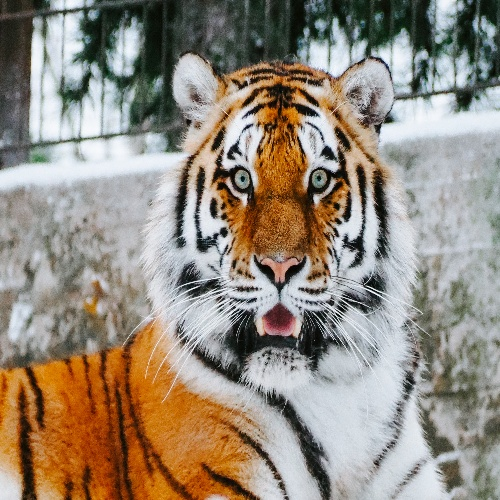tiger: (150, 34, 410, 388)
